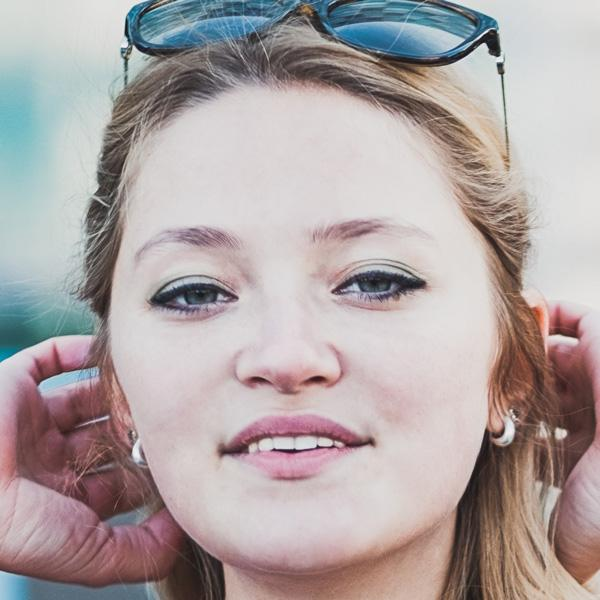Eyes: (322, 252, 435, 314), (144, 268, 245, 325)
